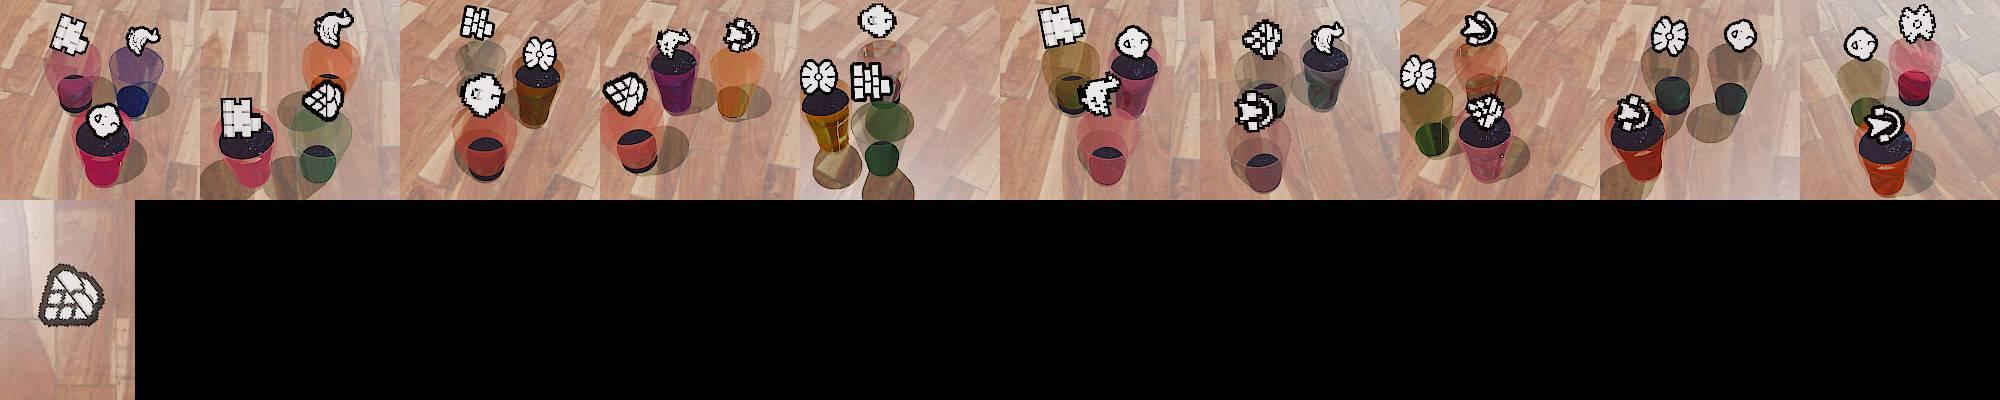icon: (36, 264, 106, 329), (458, 71, 508, 117), (1037, 4, 1085, 50), (848, 60, 897, 104), (602, 70, 648, 115), (1078, 73, 1124, 117), (219, 94, 264, 140), (1233, 87, 1277, 132), (301, 78, 346, 121), (1241, 18, 1284, 60), (50, 13, 92, 56), (1649, 14, 1687, 57), (312, 8, 352, 48), (1898, 4, 1936, 45), (798, 57, 839, 96), (1865, 102, 1903, 143), (1464, 93, 1506, 130), (1615, 93, 1653, 132), (1459, 10, 1497, 50), (856, 3, 898, 38), (1114, 23, 1153, 60), (1401, 54, 1436, 94), (722, 17, 760, 54), (522, 36, 559, 73), (1843, 25, 1879, 62), (459, 4, 494, 42), (1310, 22, 1348, 56), (1723, 19, 1758, 55), (656, 27, 691, 60), (88, 103, 121, 138), (126, 24, 161, 56)
